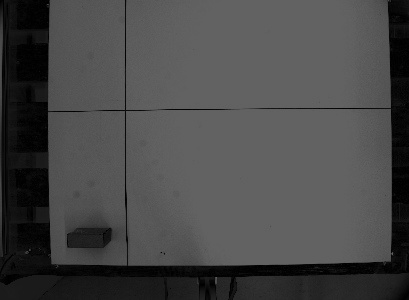b1: (65, 225, 112, 250)
